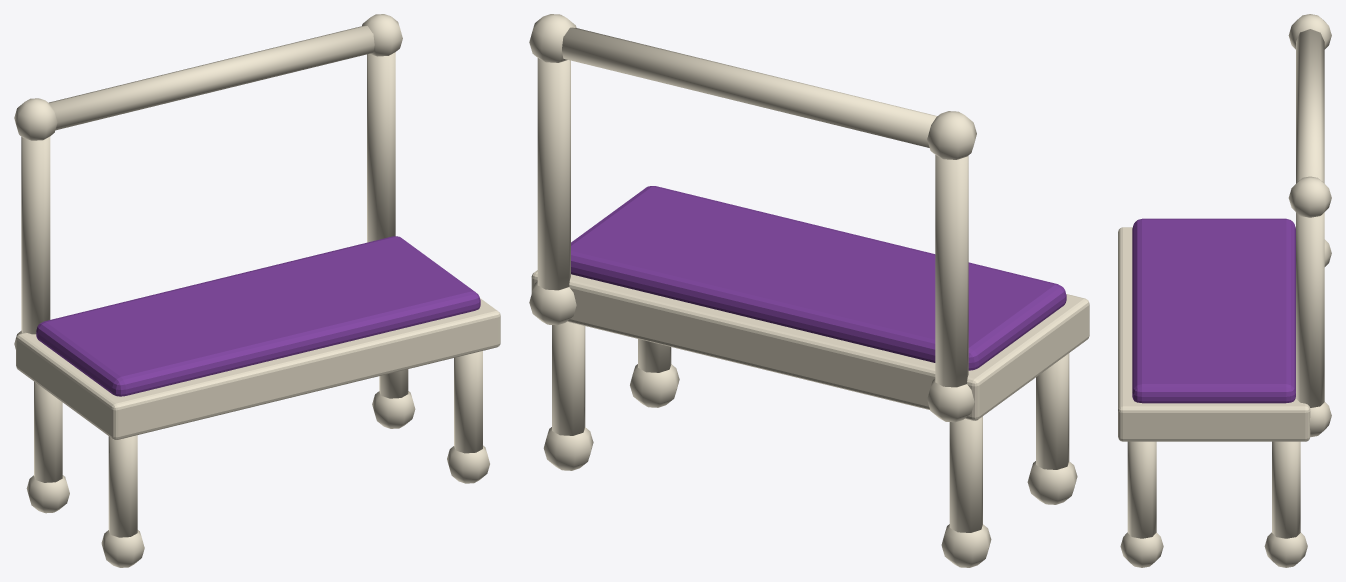
Rendered from kneeler_bone.glb.
3 renders of one model, left to right at view 1: azimuth 30°, elevation 25°; view 2: azimuth 150°, elevation 25°; view 3: azimuth 270°, elevation 25°, orthographic. The views are drawn at different scales.
Parts seen in each view (by area): view 1: GD_kneeler_bone__m0, GD_kneeler_bone__m1; view 2: GD_kneeler_bone__m0, GD_kneeler_bone__m1; view 3: GD_kneeler_bone__m0, GD_kneeler_bone__m1.
Part boxes in pixels (left/top/right/bottom): GD_kneeler_bone__m0: left=14, top=14, right=500, bottom=567; GD_kneeler_bone__m1: left=36, top=236, right=480, bottom=396; GD_kneeler_bone__m0: left=529, top=14, right=1089, bottom=567; GD_kneeler_bone__m1: left=571, top=186, right=1066, bottom=370; GD_kneeler_bone__m0: left=1118, top=14, right=1331, bottom=567; GD_kneeler_bone__m1: left=1132, top=218, right=1295, bottom=403.
Bounding box in the file's own units: 0.9 × 0.89 × 0.445.
